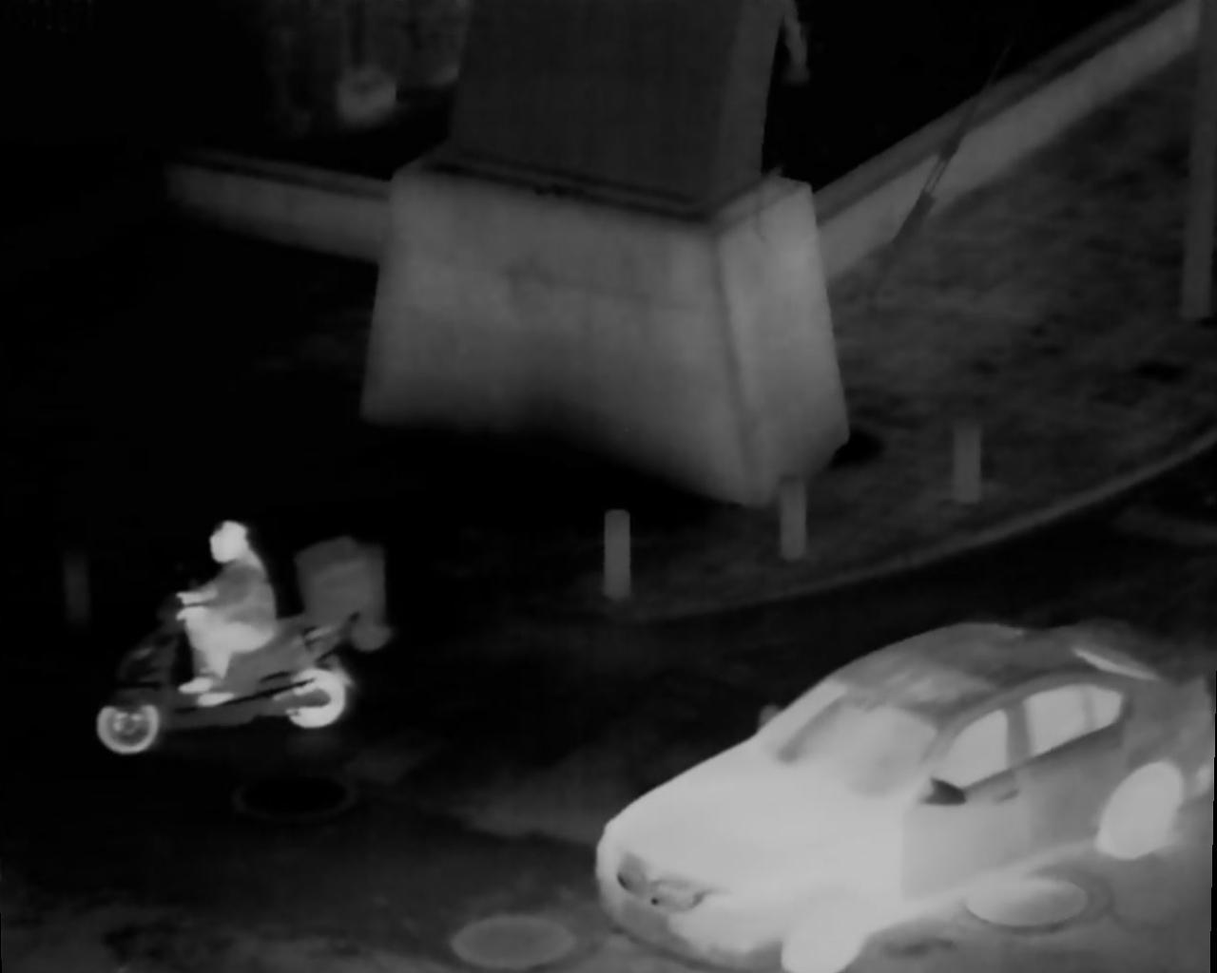person: (184, 523, 284, 702)
